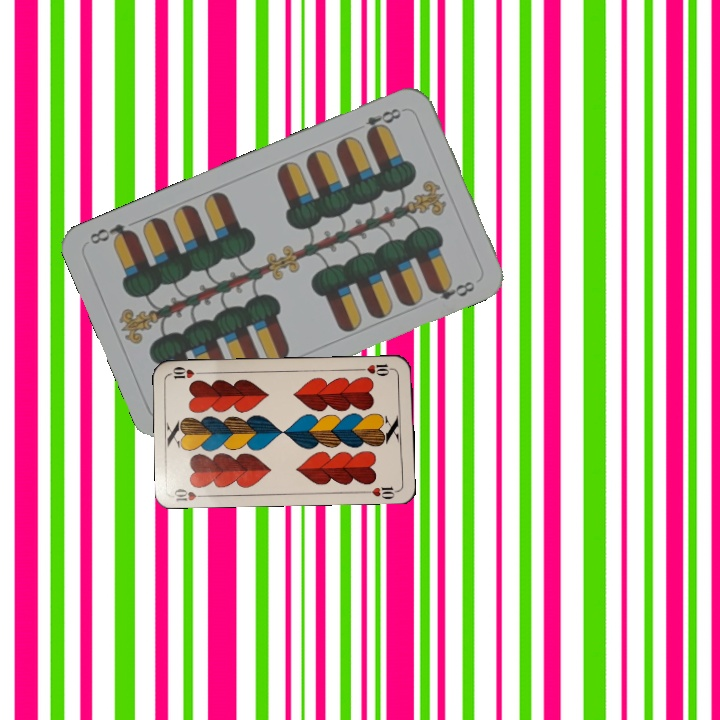E8: (361, 104, 408, 139)
H10: (170, 484, 210, 504), (356, 360, 396, 378)
